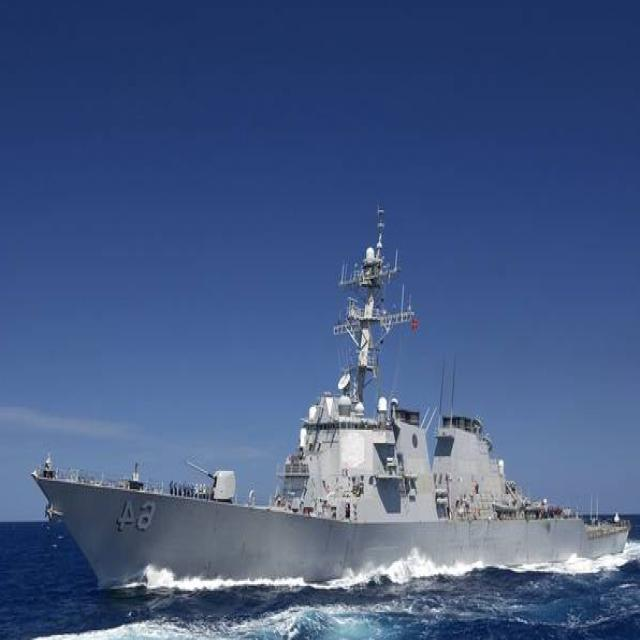navalvessels: (54, 254, 625, 620)
